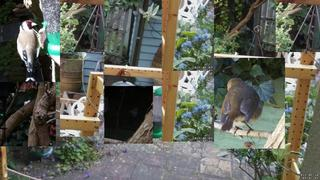goldfinch: (17, 20, 40, 82)
robin: (220, 78, 265, 137)
